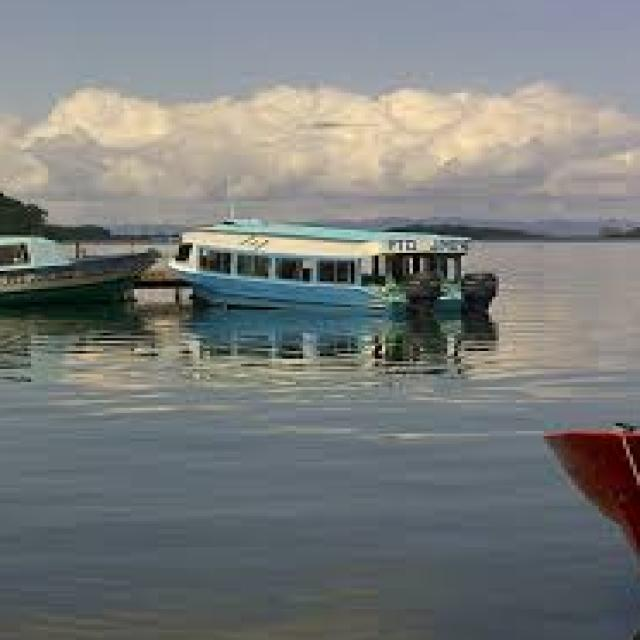houseboat: (120, 205, 497, 330)
